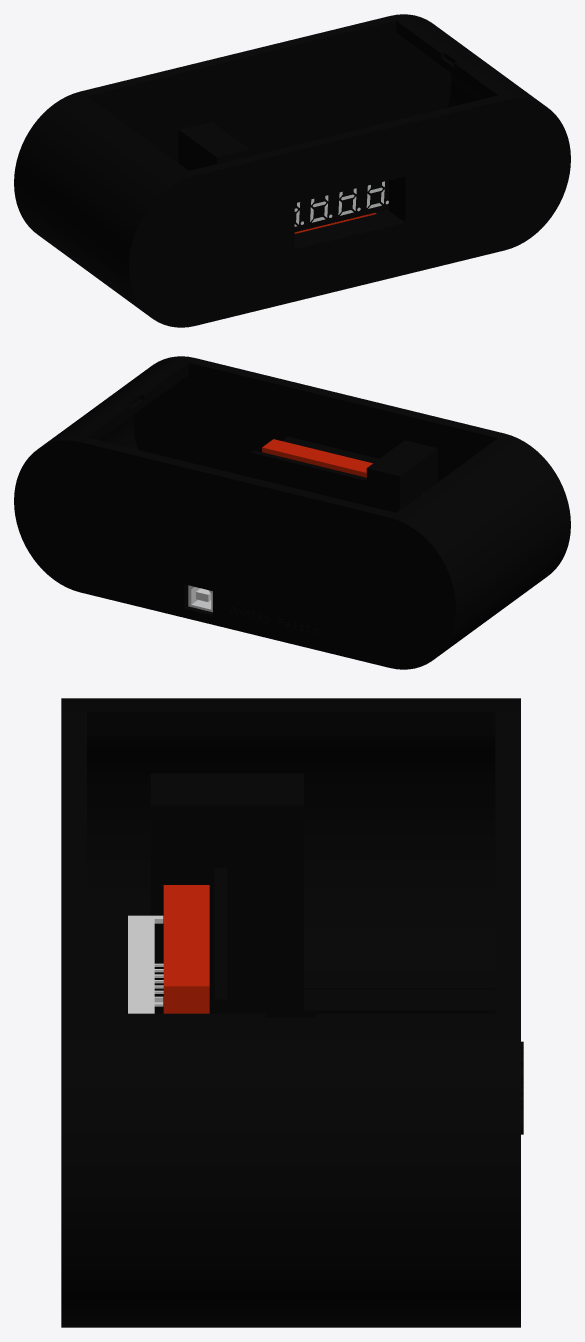
File: clock.gltf
3 renders of one model, top to bottom at view 1: azimuth 30°, elevation 25°; view 2: azimuth 150°, elevation 25°; view 3: azimuth 270°, elevation 25°, orthographic. The views are drawn at different scales.
Parts seen in each view (by area): view 1: Mesh_Mesh_head_geo001_lambert2SG001; view 2: Mesh_Mesh_head_geo001_lambert2SG001; view 3: Mesh_Mesh_head_geo001_lambert2SG001.
Boxes of the visible parts, x1,y1,x2,y2 form: Mesh_Mesh_head_geo001_lambert2SG001: [14, 14, 570, 327]; Mesh_Mesh_head_geo001_lambert2SG001: [14, 356, 570, 669]; Mesh_Mesh_head_geo001_lambert2SG001: [61, 698, 523, 1327].
Bounding box in the file's own units: 200 × 65 × 90.5.
